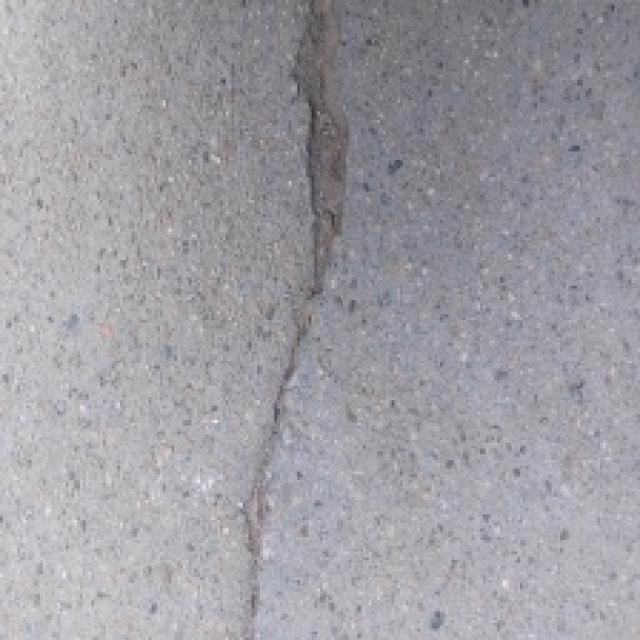crack: (210, 2, 374, 640)
